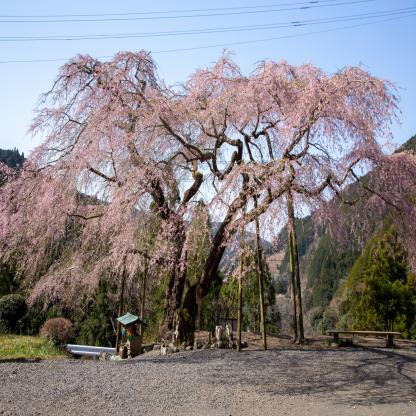ShidareZakura: (0, 49, 416, 318)
